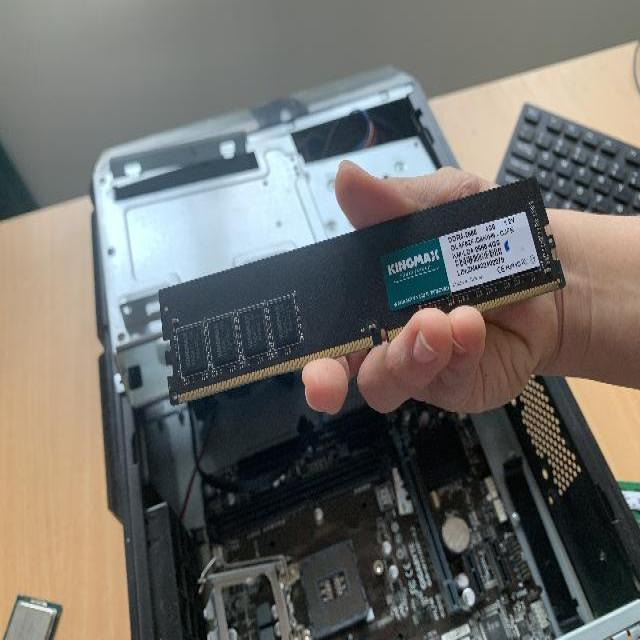RAM: (160, 178, 566, 410)
